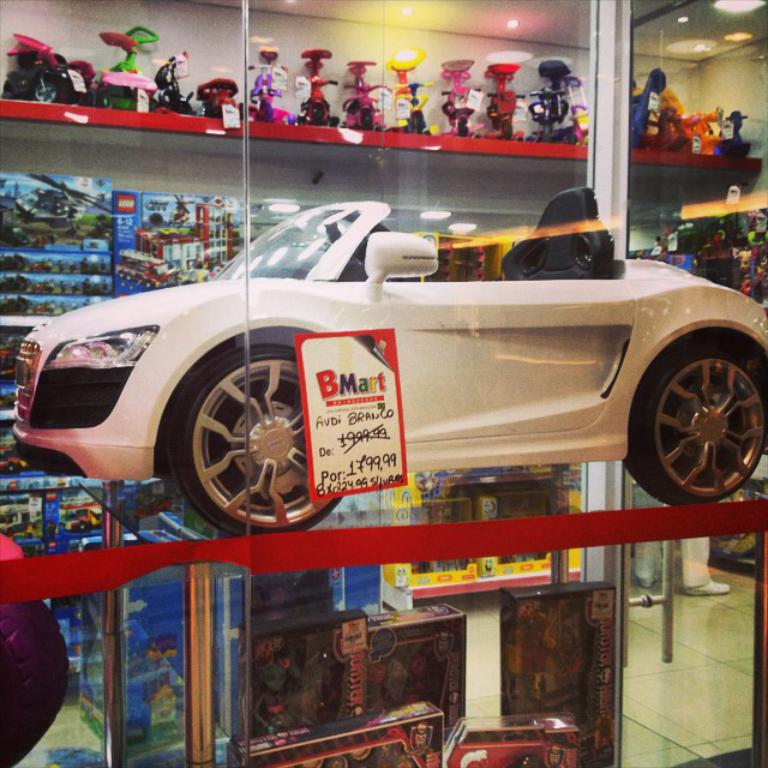Car: (26, 190, 760, 565)
